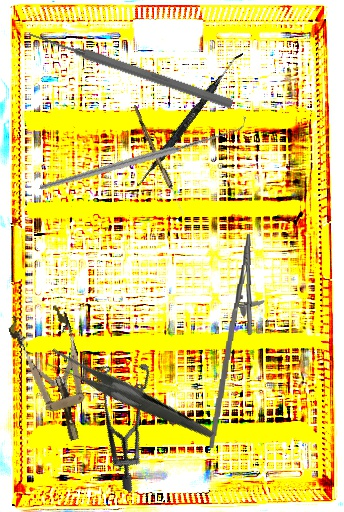Dressing Forceps: (41, 312, 215, 482)
Hook Surgical: (39, 72, 246, 235)
Needle Holder: (207, 232, 269, 451)
Pusher: (26, 27, 235, 111)
Spatula Surgical: (135, 47, 244, 191)
Speculum: (51, 344, 194, 494), (5, 301, 103, 449)
Surgical Spoon: (130, 104, 188, 218)
